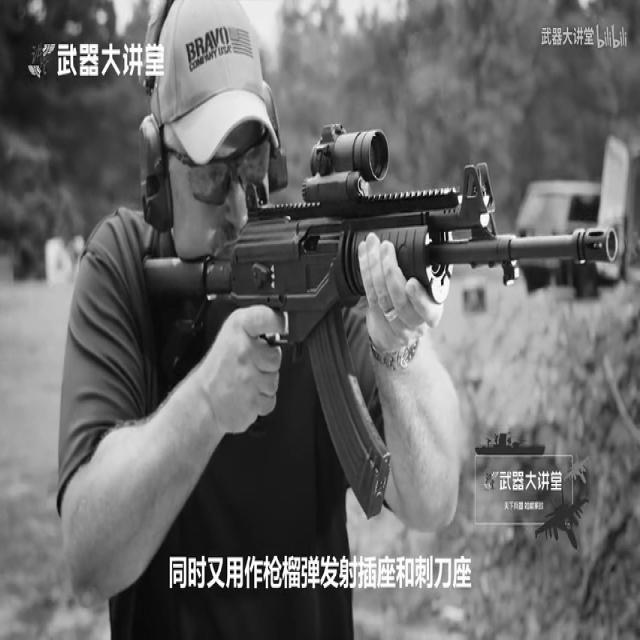Rifle: (90, 98, 610, 580)
